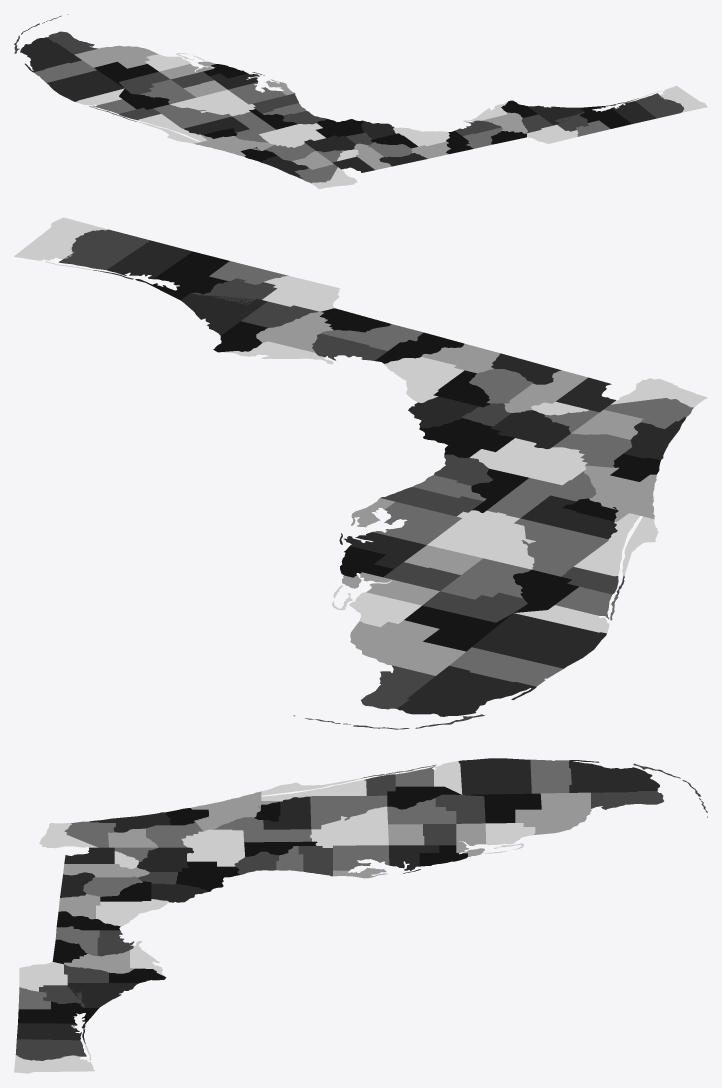
Rendered from Florida_Counties_2D.fbx.
The picture shows the model from 3 angles, top to bottom: view 1: azimuth 30°, elevation 25°; view 2: azimuth 150°, elevation 25°; view 3: azimuth 270°, elevation 25°; orthographic projection. The views are drawn at different scales.
Visible parts, largest first — view 1: FL_Palm_Beach_County_2D, FL_Collier_County_2D, FL_Polk_County_2D, FL_Miami_Dade_County_2D, FL_Marion_County_2D, FL_Osceola_County_2D, FL_Volusia_County_2D, FL_Brevard_County_2D, FL_Hendry_County_2D, FL_Broward_County_2D, FL_Lake_County_2D, FL_Santa_Rosa_County_2D (+50 smaller); view 2: FL_Palm_Beach_County_2D, FL_Collier_County_2D, FL_Miami_Dade_County_2D, FL_Polk_County_2D, FL_Marion_County_2D, FL_Osceola_County_2D, FL_Volusia_County_2D, FL_Brevard_County_2D, FL_Hendry_County_2D, FL_Broward_County_2D, FL_Lake_County_2D, FL_Santa_Rosa_County_2D (+50 smaller); view 3: FL_Palm_Beach_County_2D, FL_Collier_County_2D, FL_Miami_Dade_County_2D, FL_Polk_County_2D, FL_Marion_County_2D, FL_Osceola_County_2D, FL_Volusia_County_2D, FL_Brevard_County_2D, FL_Hendry_County_2D, FL_Lake_County_2D, FL_Broward_County_2D, FL_Santa_Rosa_County_2D (+50 smaller).
Part boxes in pixels (box(x1,y1,x2,y2)): FL_Palm_Beach_County_2D: box(47, 70, 124, 101); FL_Collier_County_2D: box(74, 45, 158, 68); FL_Polk_County_2D: box(170, 89, 255, 116); FL_Miami_Dade_County_2D: box(20, 37, 81, 72); FL_Marion_County_2D: box(259, 123, 325, 147); FL_Osceola_County_2D: box(153, 104, 231, 128); FL_Volusia_County_2D: box(194, 135, 274, 156); FL_Brevard_County_2D: box(137, 114, 207, 143); FL_Hendry_County_2D: box(94, 61, 158, 87); FL_Broward_County_2D: box(33, 60, 96, 82); FL_Lake_County_2D: box(232, 112, 275, 142); FL_Santa_Rosa_County_2D: box(633, 93, 684, 118); FL_Palm_Beach_County_2D: box(472, 613, 606, 668); FL_Collier_County_2D: box(350, 620, 465, 675); FL_Miami_Dade_County_2D: box(397, 665, 536, 716); FL_Polk_County_2D: box(427, 510, 535, 569); FL_Marion_County_2D: box(470, 438, 587, 485); FL_Osceola_County_2D: box(514, 518, 608, 576); FL_Volusia_County_2D: box(584, 465, 656, 521); FL_Brevard_County_2D: box(573, 513, 658, 576); FL_Hendry_County_2D: box(404, 605, 511, 651); FL_Broward_County_2D: box(449, 647, 563, 686); FL_Lake_County_2D: box(487, 471, 596, 518); FL_Santa_Rosa_County_2D: box(58, 229, 150, 272); FL_Palm_Beach_County_2D: box(458, 758, 531, 794); FL_Collier_County_2D: box(515, 792, 591, 834); FL_Miami_Dade_County_2D: box(569, 760, 659, 792); FL_Polk_County_2D: box(310, 806, 388, 847); FL_Marion_County_2D: box(181, 829, 244, 866); FL_Osceola_County_2D: box(310, 795, 387, 829); FL_Volusia_County_2D: box(191, 791, 280, 831); FL_Brevard_County_2D: box(261, 778, 366, 801); FL_Hendry_County_2D: box(465, 793, 541, 823); FL_Lake_County_2D: box(212, 817, 311, 842); FL_Broward_County_2D: box(530, 759, 571, 793); FL_Santa_Rosa_County_2D: box(15, 1039, 86, 1060).
Bounding box in the file's own units: 852 × 0 × 793.
